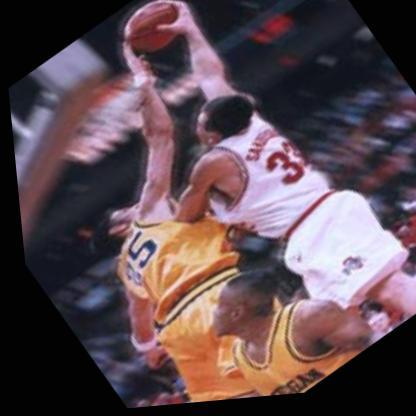basketball: (111, 0, 195, 69)
